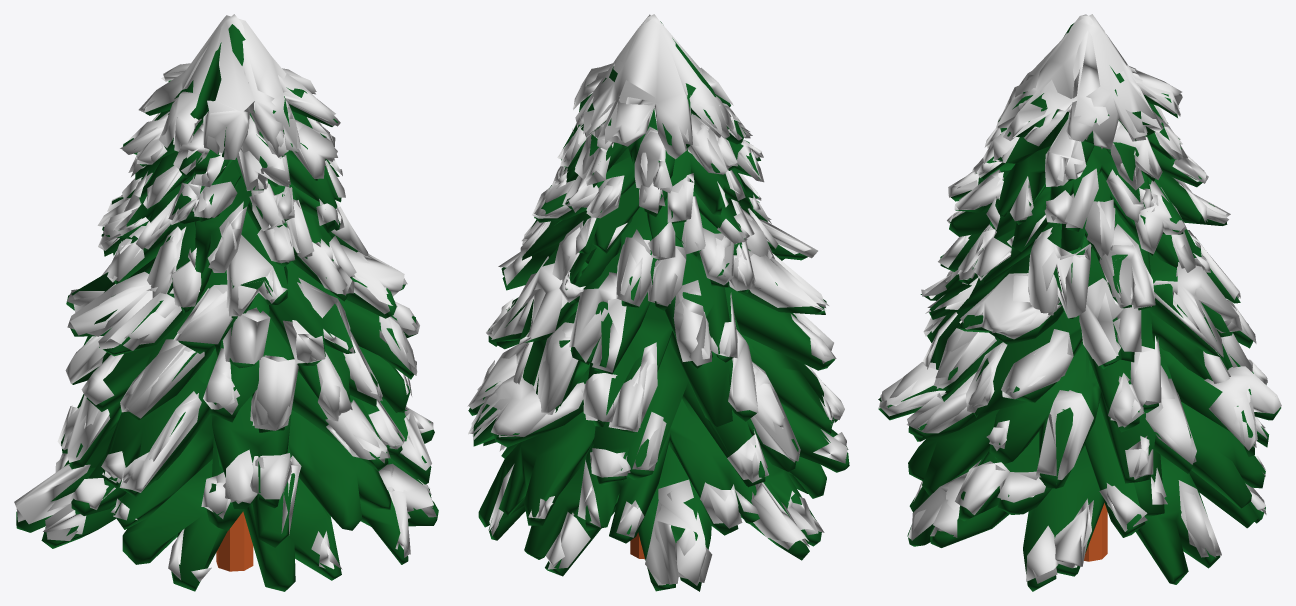
Rendered from dressing-pine.glb.
3 views of the same model, side by side, from view 1: azimuth 30°, elevation 25°; view 2: azimuth 150°, elevation 25°; view 3: azimuth 270°, elevation 25° (orthographic). The views are drawn at different scales.
Visible parts, largest first — view 1: Cylinder.053, Cylinder.060, Cylinder.054; view 2: Cylinder.053, Cylinder.060; view 3: Cylinder.053, Cylinder.060, Cylinder.054.
Boxes of the visible parts, x1,y1,x2,y2 form: Cylinder.053: (14,14,436,581); Cylinder.060: (16,24,438,591); Cylinder.054: (216,511,253,571); Cylinder.053: (467,14,847,585); Cylinder.060: (468,21,849,591); Cylinder.053: (878,14,1281,583); Cylinder.060: (878,23,1280,591); Cylinder.054: (1084,503,1107,561).
Size of the model in its own units: 5.24 by 7.59 by 5.17.
